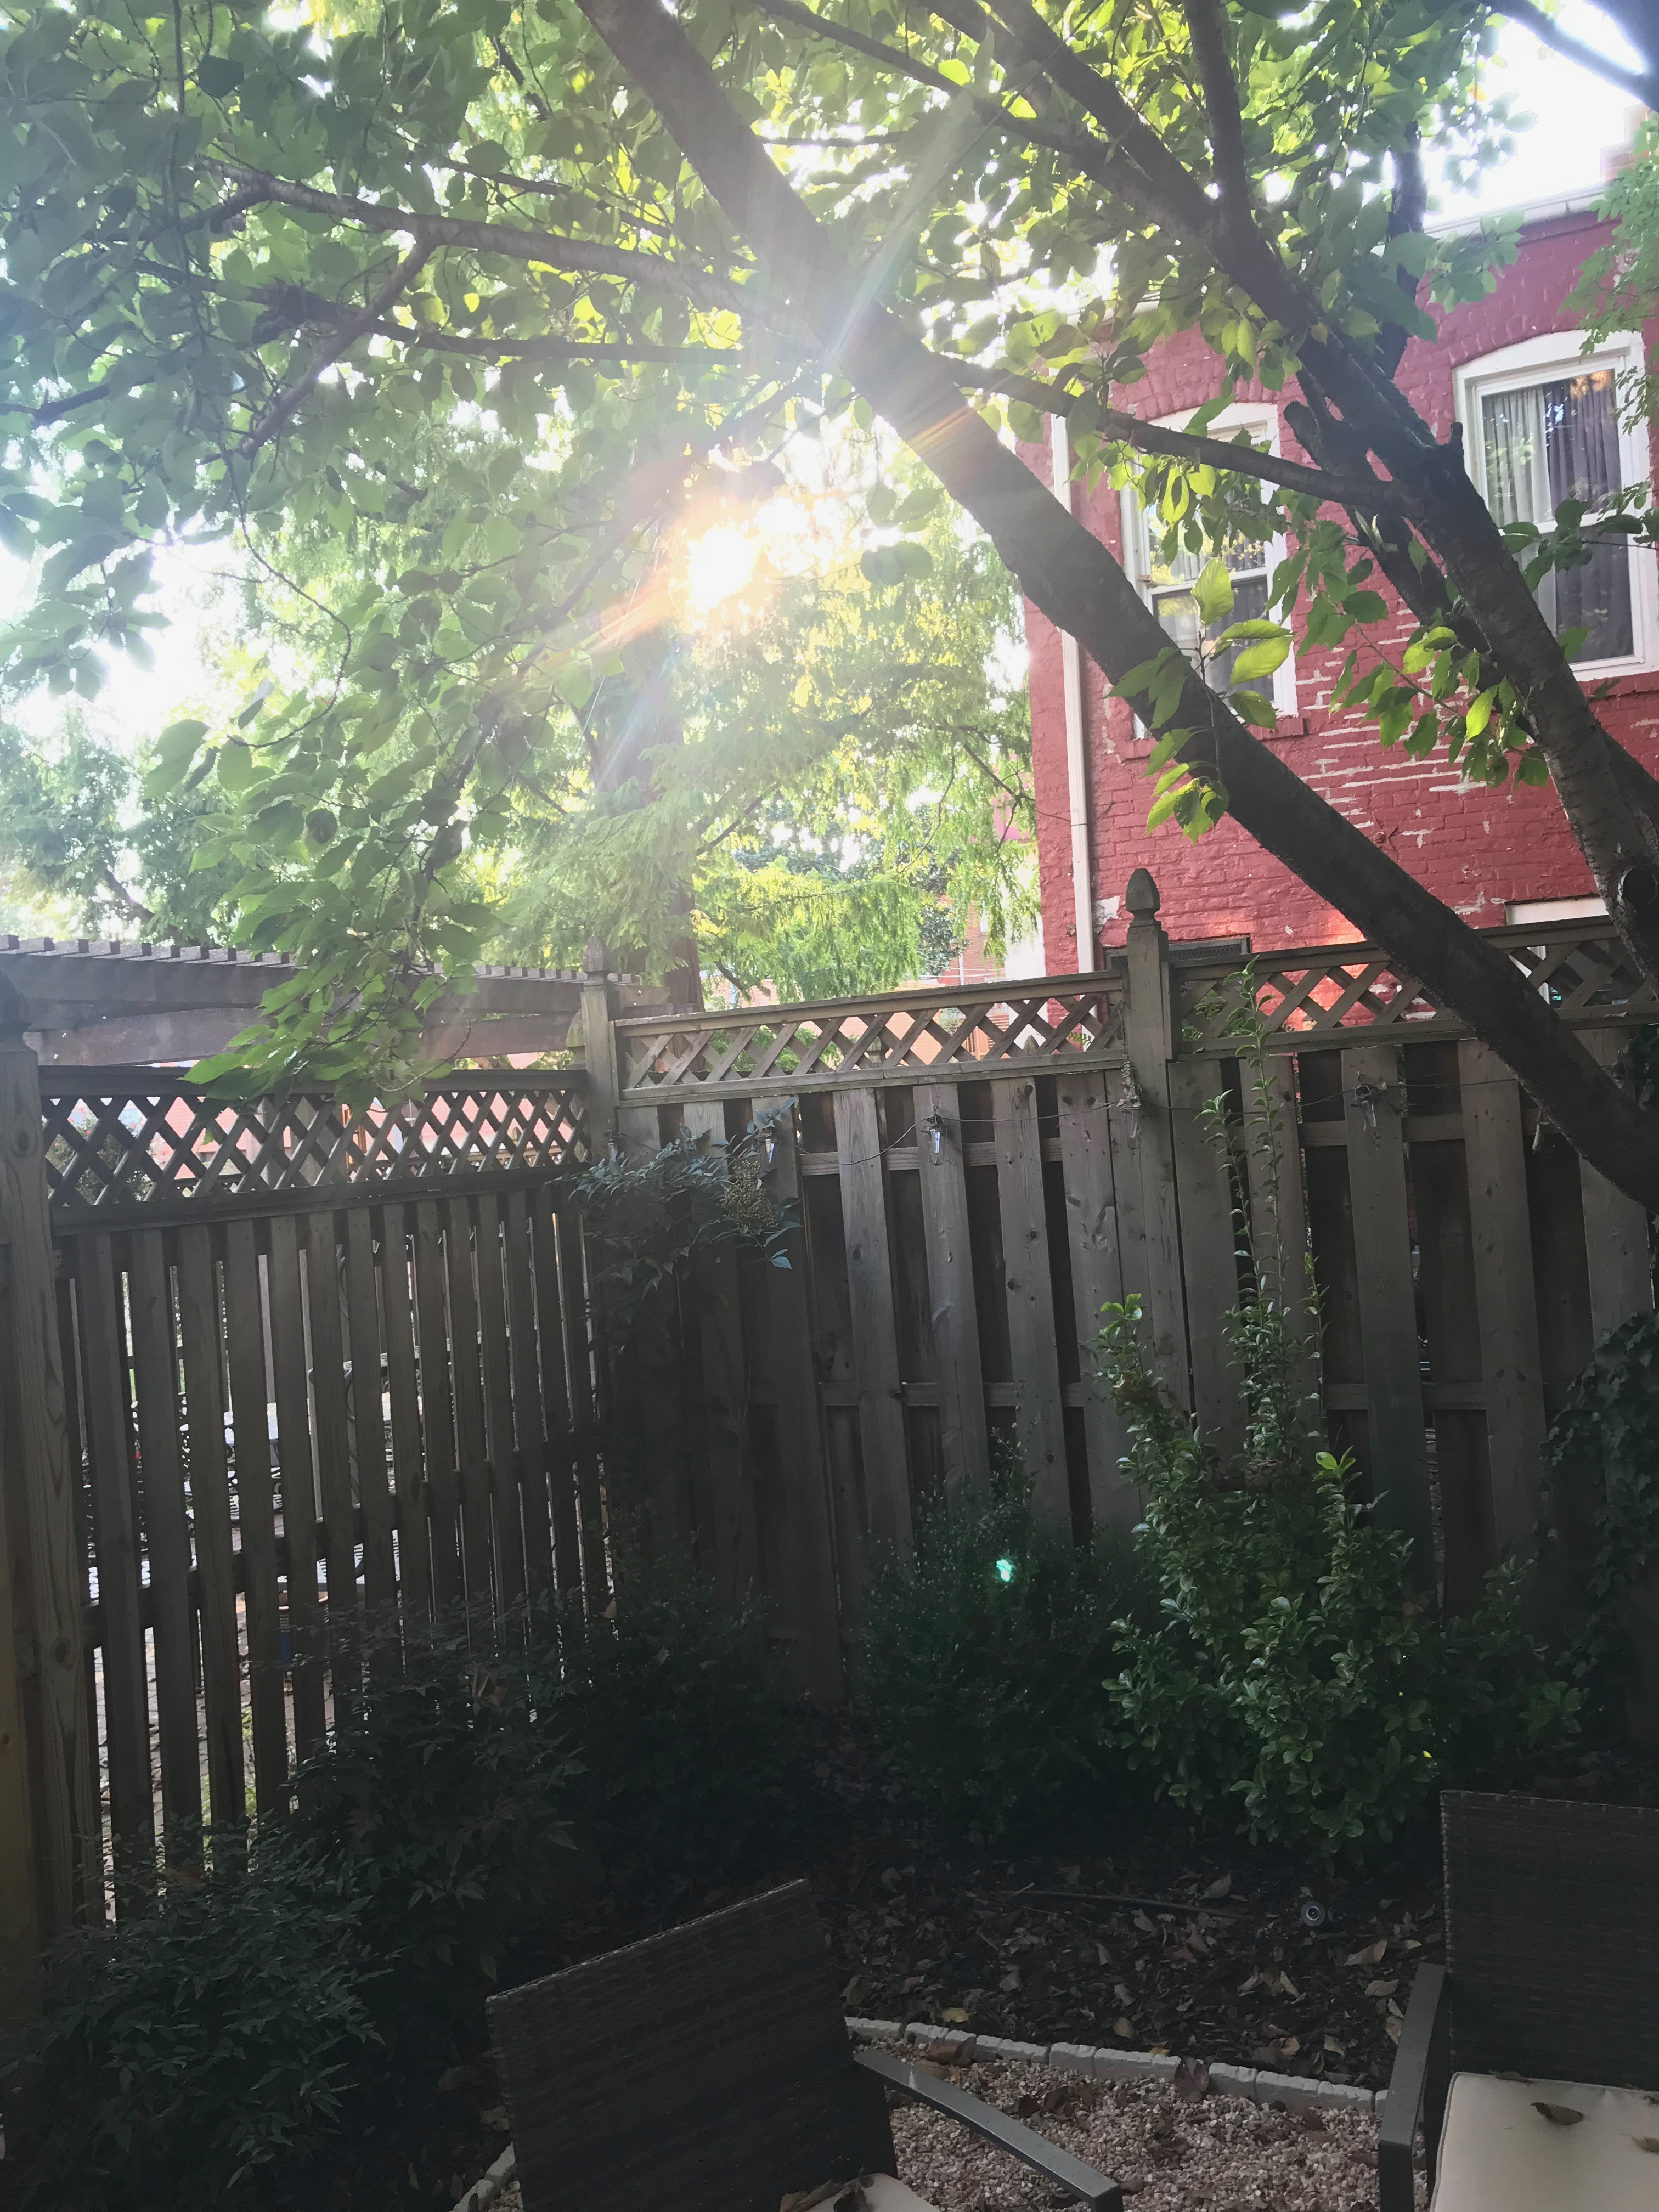flare: (993, 1557, 1016, 1585)
